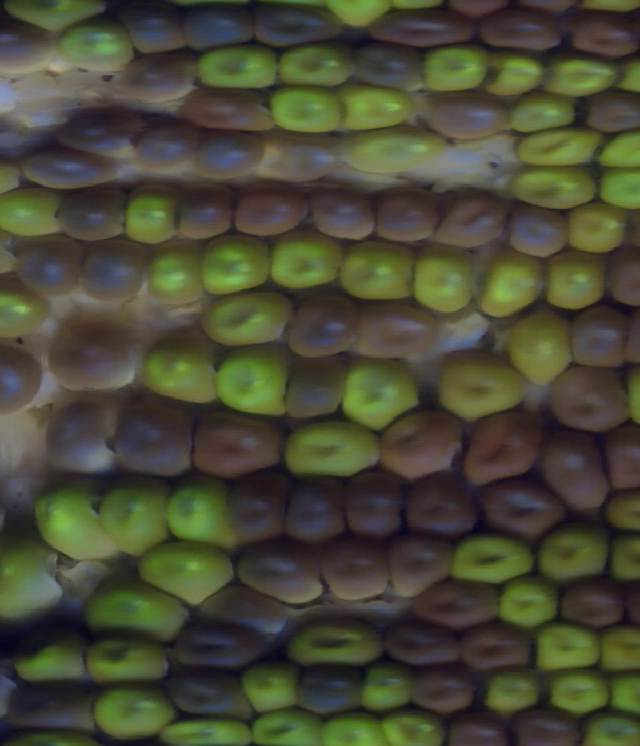fluorescent: (136, 542, 238, 601), (34, 481, 107, 563), (438, 351, 524, 419), (343, 356, 419, 430), (283, 420, 382, 476), (168, 472, 237, 547), (102, 477, 166, 557), (0, 536, 58, 623), (213, 346, 289, 412), (413, 243, 478, 316), (89, 587, 183, 637), (83, 632, 172, 684), (339, 241, 411, 302), (513, 312, 572, 386), (145, 343, 213, 407), (199, 235, 268, 298), (289, 616, 381, 663), (453, 535, 540, 583), (90, 686, 168, 739), (479, 252, 538, 322), (529, 619, 600, 675), (545, 247, 605, 312), (63, 14, 130, 71), (542, 527, 610, 583), (269, 232, 337, 287), (198, 42, 276, 89), (13, 629, 82, 682), (273, 83, 343, 135), (278, 41, 353, 89), (341, 87, 415, 135), (510, 168, 594, 209), (518, 127, 602, 167), (545, 54, 618, 98), (423, 44, 488, 92), (152, 242, 198, 309), (252, 706, 323, 746), (486, 48, 543, 97), (0, 190, 62, 235), (124, 187, 171, 244), (501, 579, 555, 628), (510, 94, 576, 134), (0, 284, 49, 337), (165, 718, 256, 746), (359, 661, 407, 712), (572, 204, 624, 251), (244, 661, 296, 708), (385, 707, 442, 746), (485, 671, 537, 713), (547, 674, 604, 711), (580, 713, 638, 746), (598, 627, 640, 672), (322, 714, 381, 746), (603, 487, 640, 532), (596, 167, 640, 203), (601, 130, 640, 169), (610, 532, 640, 580), (608, 674, 640, 717)
nonfluorescent: (114, 407, 196, 478), (45, 324, 133, 389), (193, 410, 278, 475), (483, 473, 564, 541), (545, 433, 613, 514), (43, 402, 118, 475), (378, 411, 458, 479), (403, 471, 483, 539), (465, 415, 541, 484), (551, 368, 628, 433), (290, 296, 362, 365), (240, 540, 322, 599), (338, 464, 403, 537), (420, 92, 513, 140), (162, 665, 250, 715), (366, 7, 472, 48), (13, 233, 83, 295), (175, 623, 263, 672), (81, 239, 147, 303), (457, 620, 533, 675), (319, 540, 386, 602), (478, 7, 569, 52), (250, 3, 344, 46), (283, 357, 343, 424), (198, 587, 287, 632), (265, 128, 339, 182), (230, 467, 284, 541), (413, 579, 498, 626), (57, 110, 141, 157), (23, 150, 116, 192), (282, 474, 344, 537), (387, 535, 451, 596), (133, 116, 198, 175), (7, 690, 93, 734), (358, 307, 432, 358), (437, 188, 503, 245), (387, 618, 461, 668), (182, 85, 268, 128), (355, 41, 425, 92), (198, 129, 263, 181), (564, 572, 624, 628), (178, 3, 249, 50), (57, 192, 128, 239), (126, 49, 190, 100), (234, 190, 308, 234), (512, 202, 570, 258), (373, 190, 432, 245), (569, 11, 640, 56), (573, 315, 633, 367), (313, 190, 373, 242), (176, 187, 238, 237), (114, 4, 178, 52), (0, 19, 54, 74), (0, 344, 44, 409), (514, 708, 580, 746), (603, 429, 640, 492), (585, 90, 640, 132), (422, 675, 469, 714)
